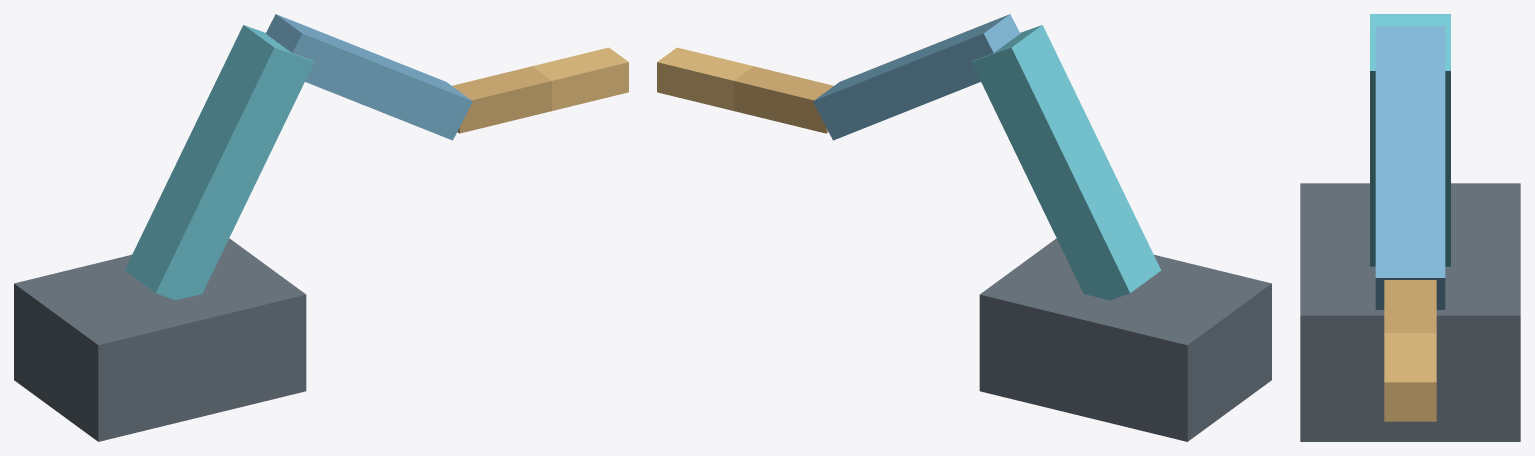
Rendered from arm3.gltf.
3 views of the same model, side by side, from view 1: azimuth 30°, elevation 25°; view 2: azimuth 150°, elevation 25°; view 3: azimuth 270°, elevation 25° (orthographic). The views are drawn at different scales.
Visible parts, largest first — view 1: base, link1, link2, link3, tool; view 2: base, link1, link2, link3, tool; view 3: base, link2, tool, link1, link3.
Part boxes in pixels (left/top/right/bottom): base: left=14, top=238, right=306, bottom=441; link1: left=124, top=25, right=314, bottom=300; link2: left=266, top=14, right=472, bottom=140; link3: left=452, top=66, right=551, bottom=133; tool: left=532, top=47, right=628, bottom=110; base: left=979, top=238, right=1271, bottom=441; link1: left=971, top=25, right=1161, bottom=300; link2: left=813, top=14, right=1019, bottom=140; link3: left=734, top=66, right=833, bottom=133; tool: left=657, top=47, right=753, bottom=110; base: left=1300, top=183, right=1520, bottom=441; link2: left=1375, top=26, right=1445, bottom=309; tool: left=1384, top=333, right=1436, bottom=421; link1: left=1370, top=14, right=1450, bottom=266; link3: left=1384, top=280, right=1436, bottom=333.
Bounding box in the file's own units: 1.46 × 0.8204 × 0.38.
